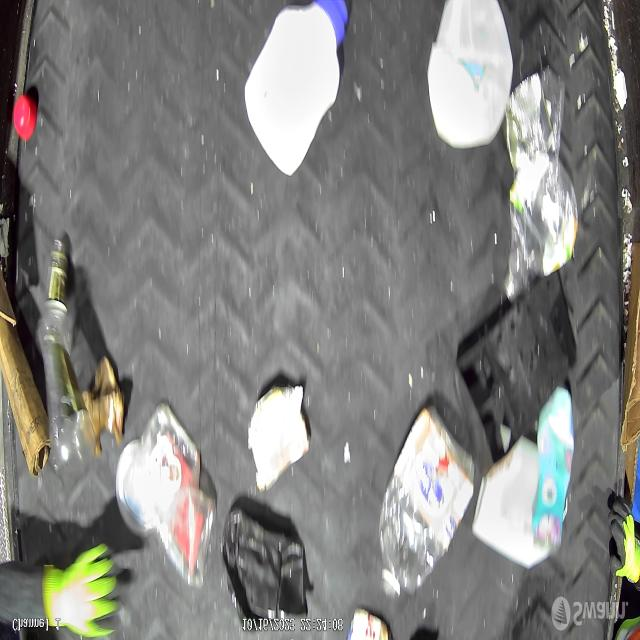milk_jug: (427, 0, 512, 149)
plastic_bottle: (380, 413, 476, 600), (137, 405, 216, 590), (501, 154, 579, 302)
